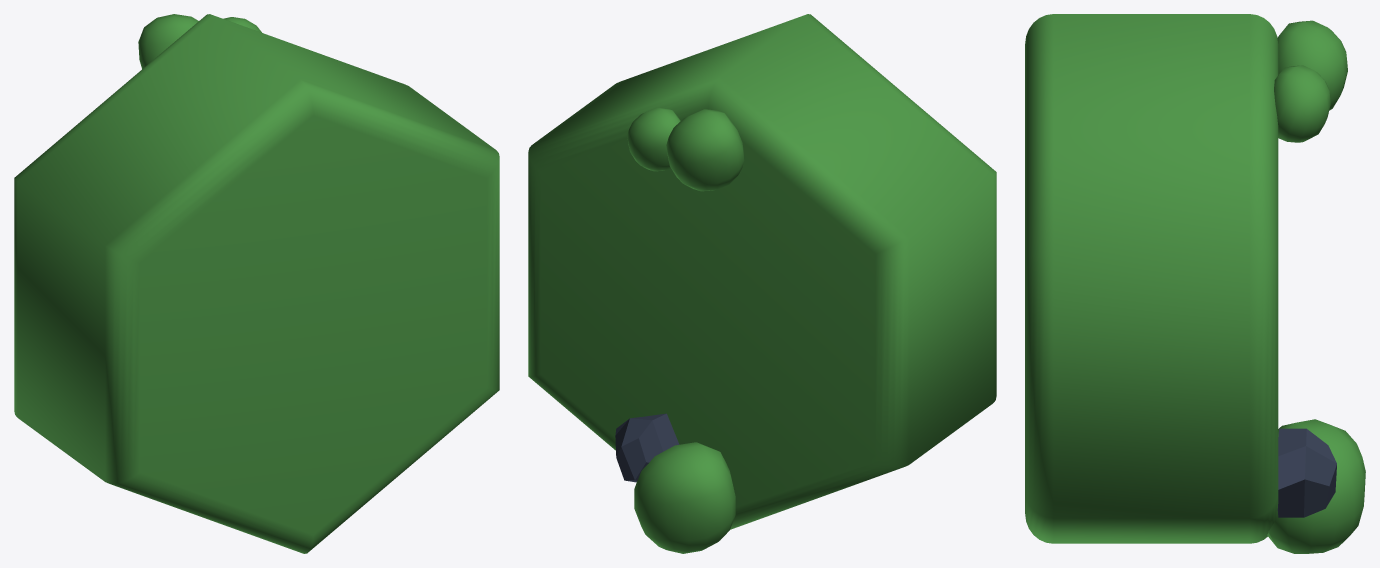
The model's file is GrassTile1.fbx.
The picture shows the model from 3 angles, left to right: view 1: azimuth 30°, elevation 25°; view 2: azimuth 150°, elevation 25°; view 3: azimuth 270°, elevation 25°; orthographic projection. The views are drawn at different scales.
Parts seen in each view (by area): view 1: Circle.007; view 2: Circle.007; view 3: Circle.007.
Part boxes in pixels (x1,y1,x2,y2): Circle.007: (14,14,499,553); Circle.007: (528,14,996,553); Circle.007: (1025,14,1365,553).
Size of the model in its own units: 200 by 231 by 135.
